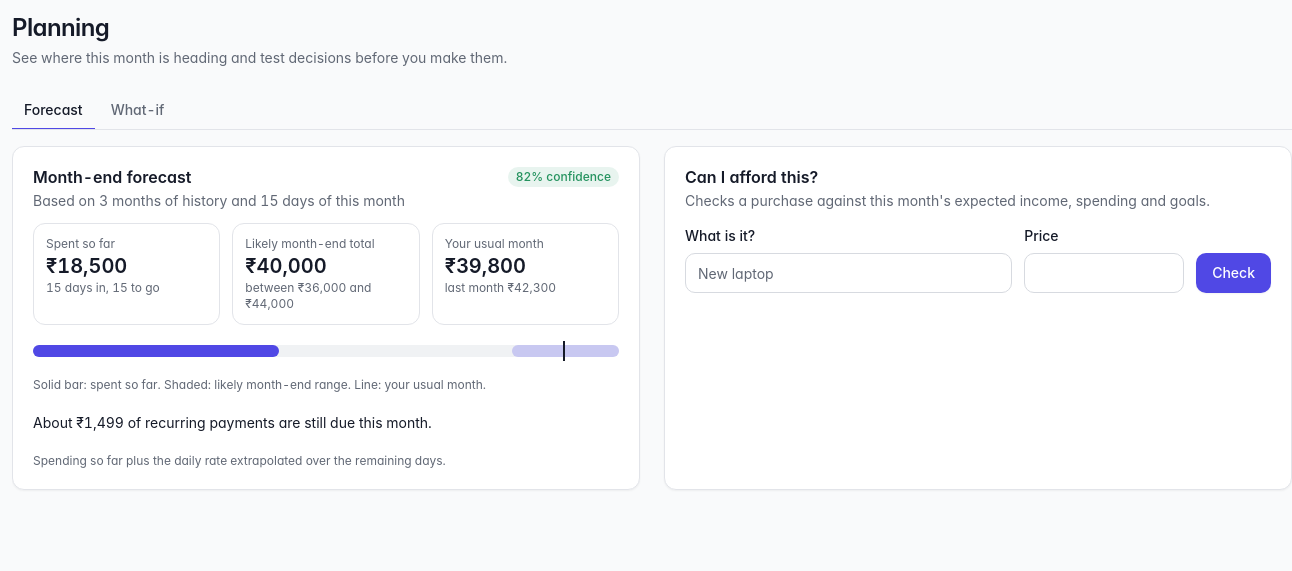
PlanningPage › only lets income changes be negative
Step 1. Click the tab "What-if" → coordinates (138, 111), box [99,92,176,130]
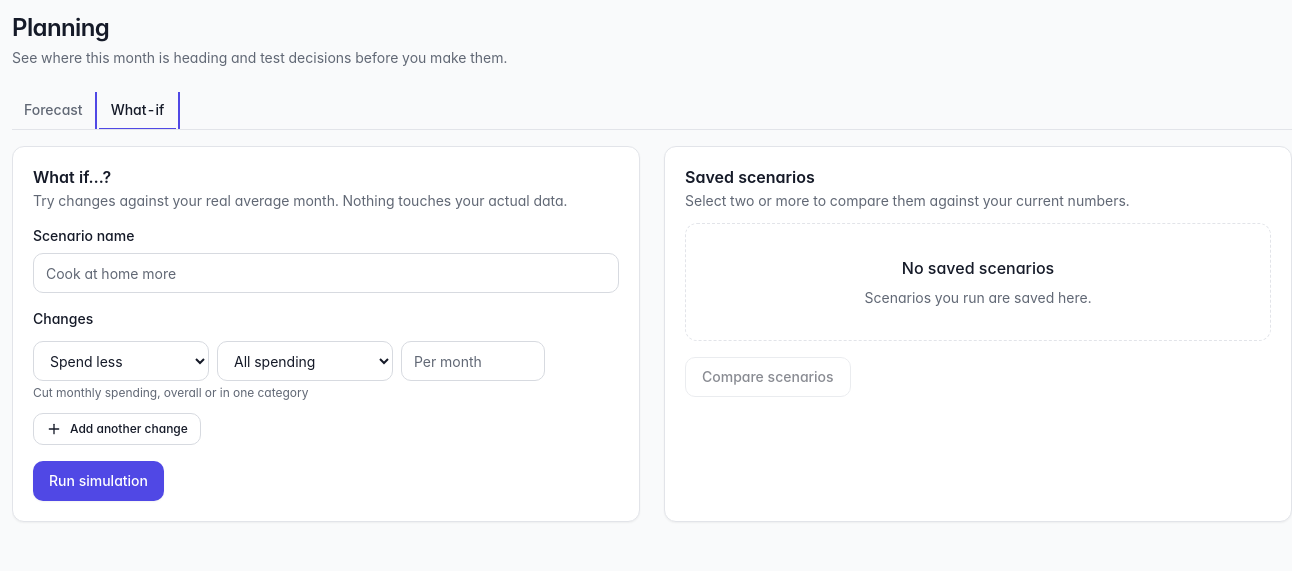
Step 2. Type "Pay cut" into the field labelled "Scenario name" → coordinates (326, 273), box [33,253,619,293]
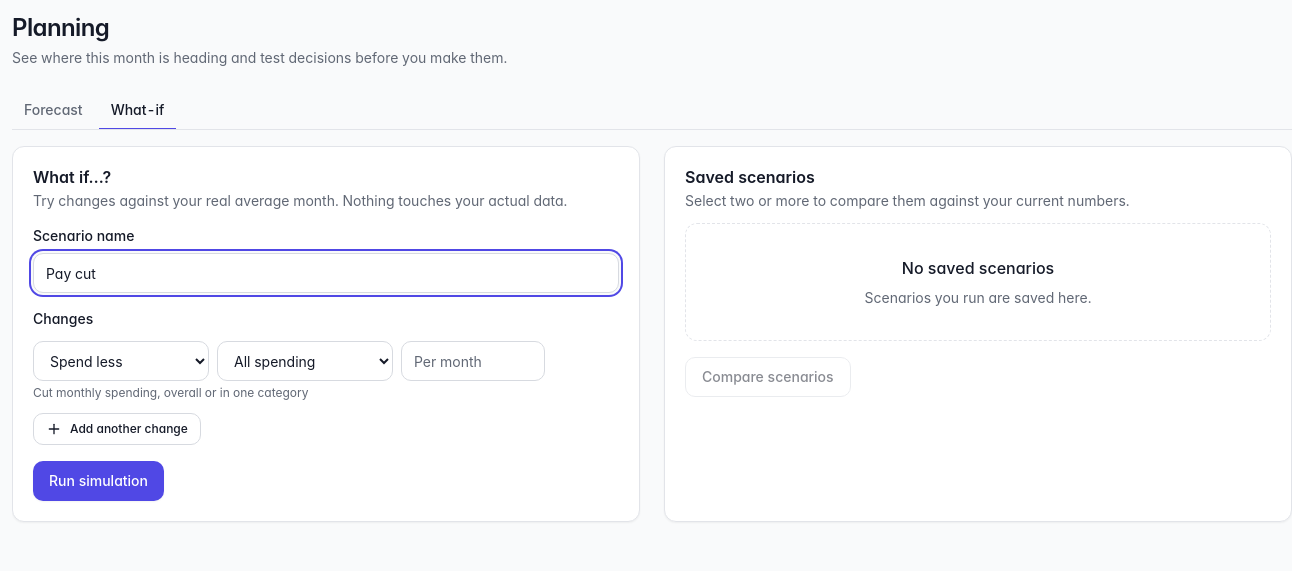
Step 3. Type "-5000" into the field named "Change 1 amount" → coordinates (473, 361), box [401,341,545,381]
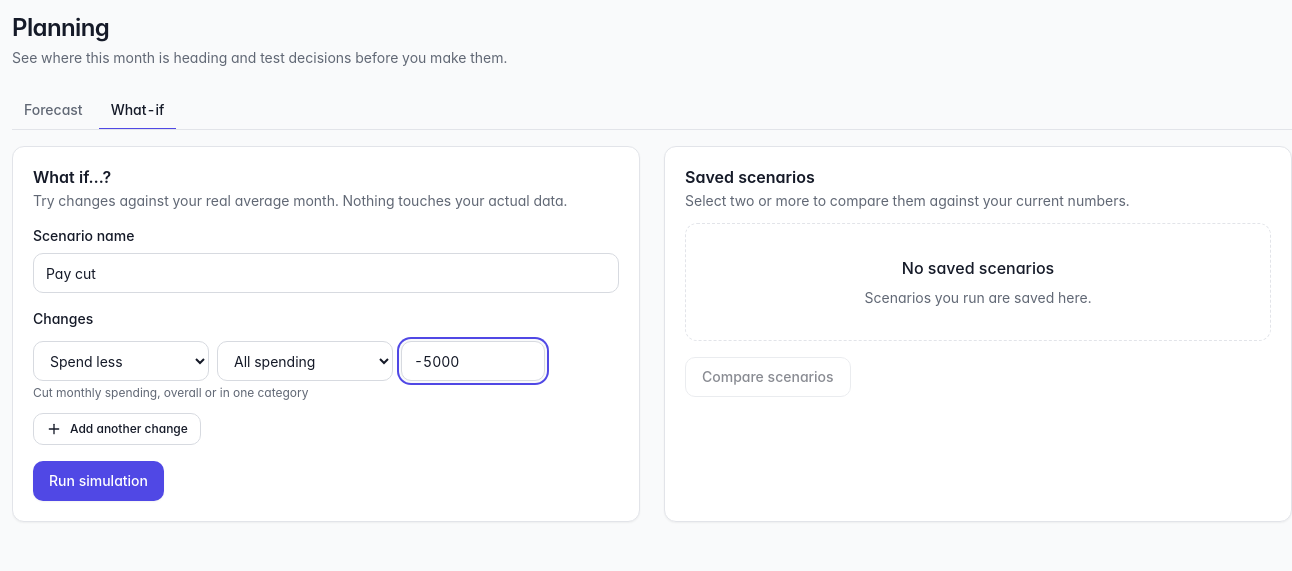
Step 4. Click the button "Run simulation" → coordinates (98, 481), box [33,461,164,501]
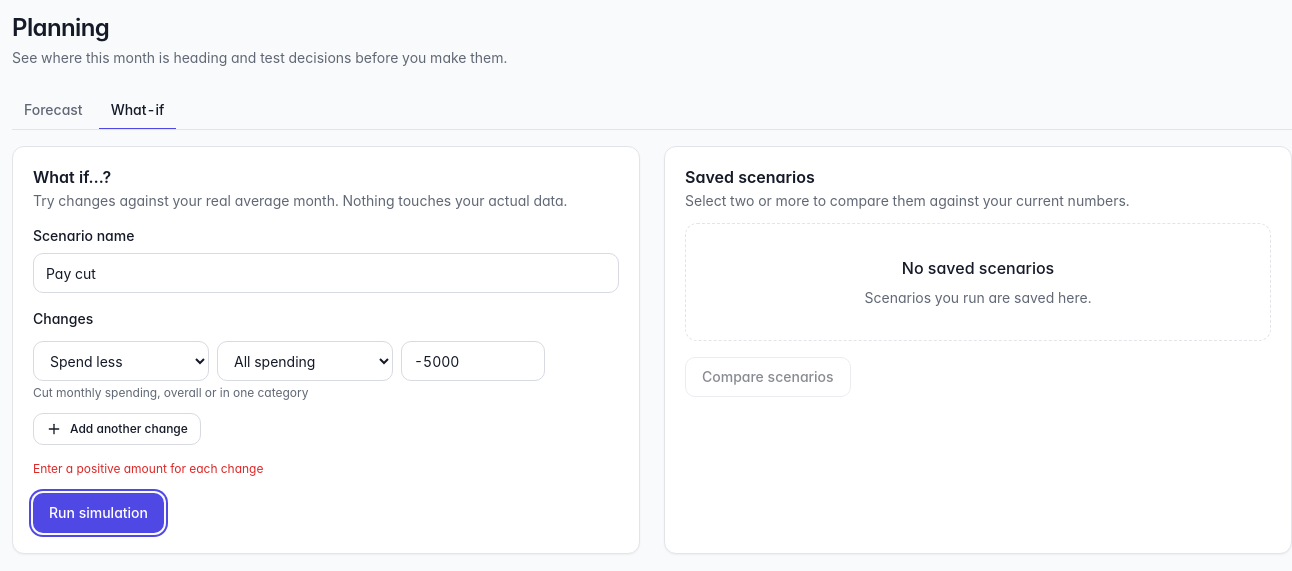
Result: the text "Enter a positive amount for each change" is shown at [33,461,263,476]
